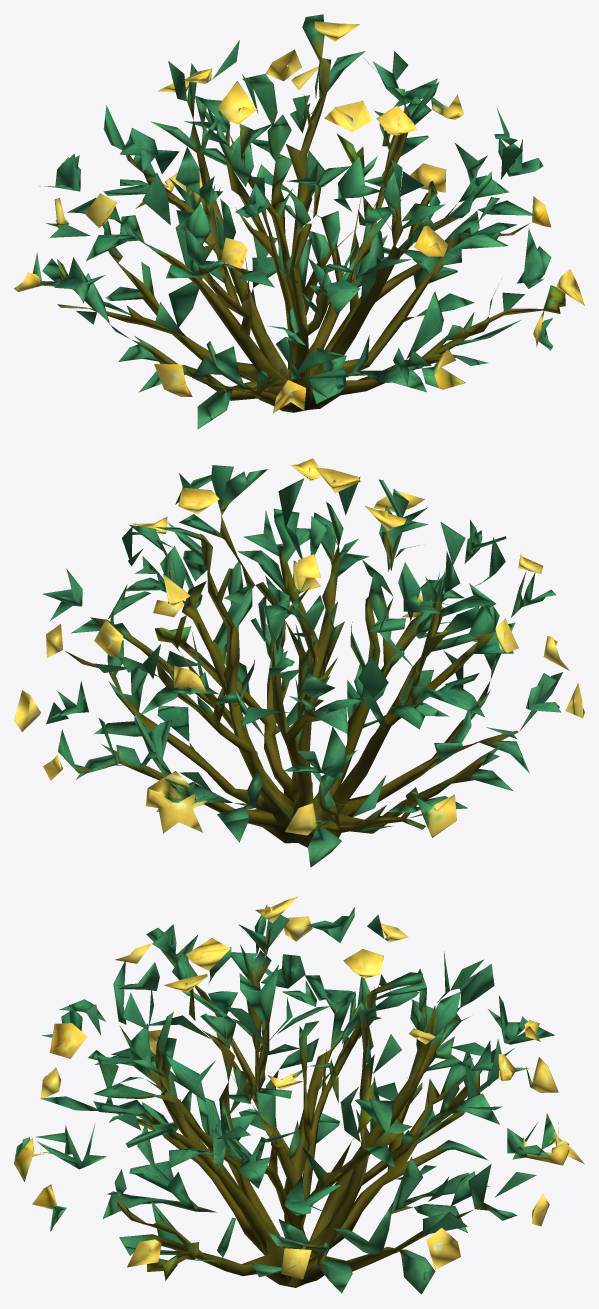
3 renders of one model, top to bottom at view 1: azimuth 30°, elevation 25°; view 2: azimuth 150°, elevation 25°; view 3: azimuth 270°, elevation 25°, orthographic. The views are drawn at different scales.
Visible parts, largest first — view 1: Mesh_0; view 2: Mesh_0; view 3: Mesh_0.
Boxes of the visible parts, x1,y1,x2,y2 form: Mesh_0: [14, 14, 584, 429]; Mesh_0: [14, 458, 584, 867]; Mesh_0: [14, 896, 584, 1294].
Bounding box in the file's own units: 1.87 × 1.24 × 1.81.
1 material, 1 textured.
